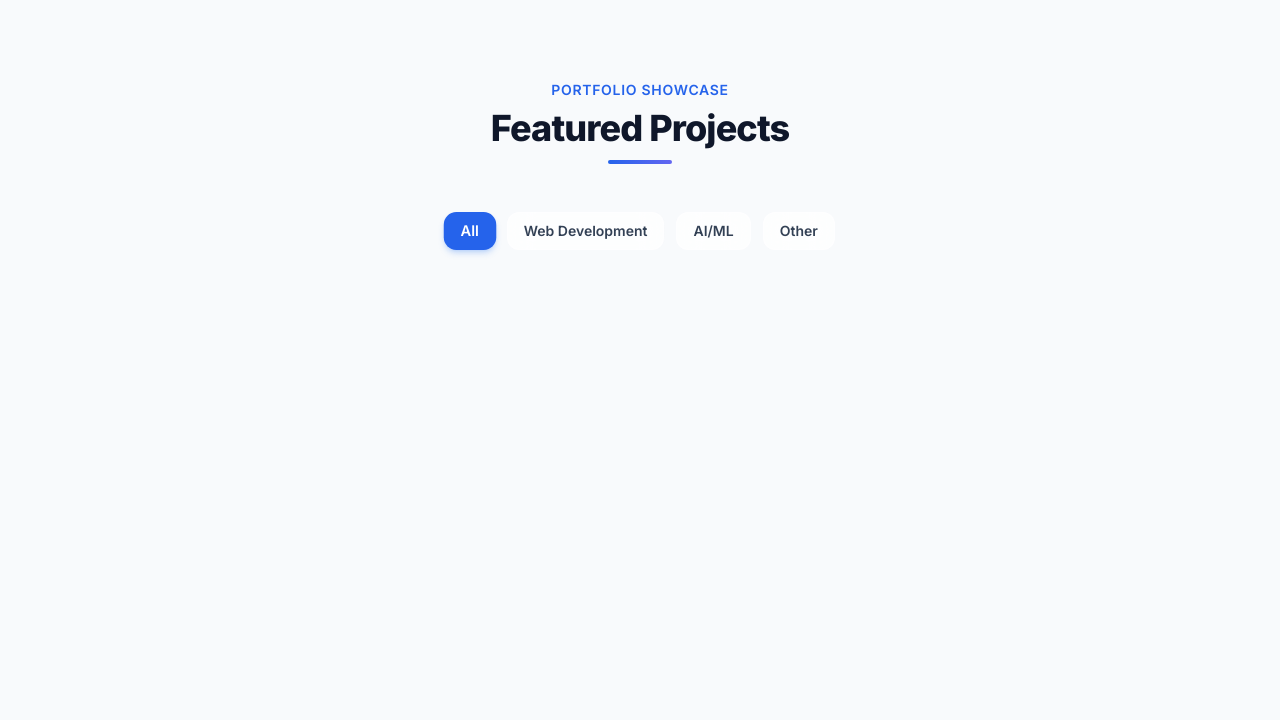
Test: Frontend Component Tests › filters project cards accurately on category tab click
This screenshot has width=1280, height=720.
Click on AI/ML filter
Click the button "AI/ML" at (714, 231), box [676,212,751,250]
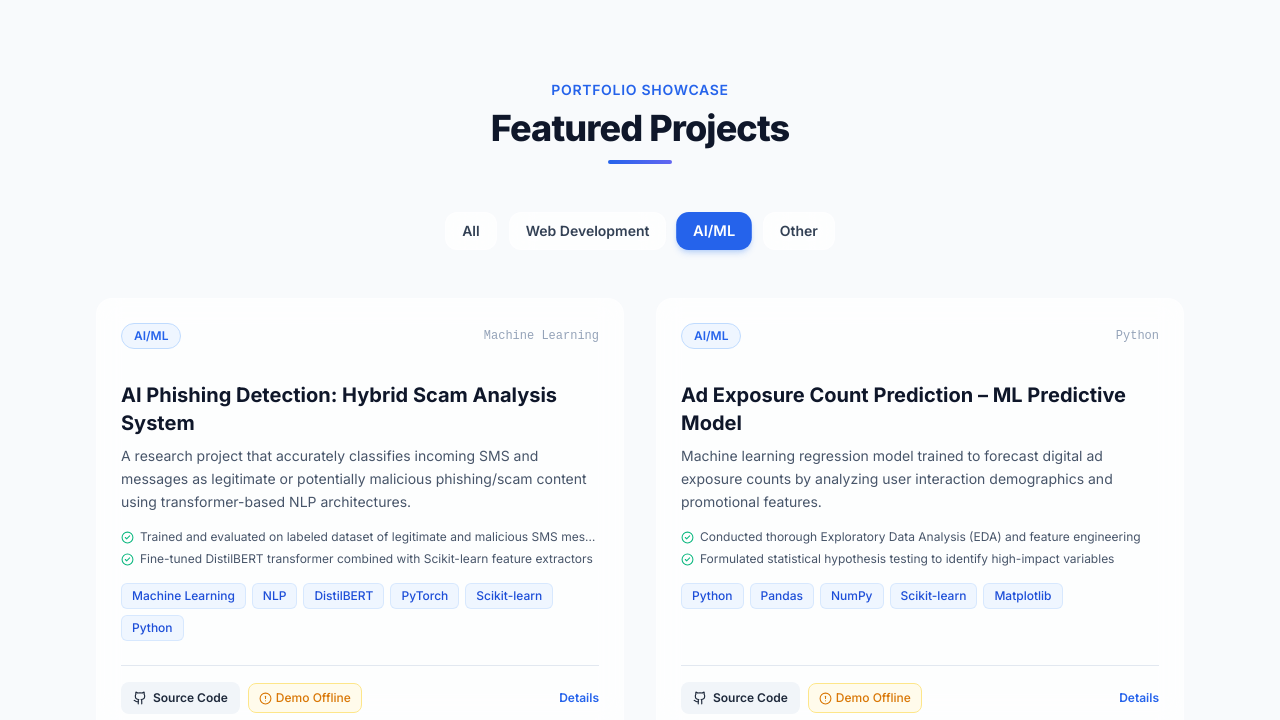
Expected: the heading "AI Phishing Detection: Hybrid Scam Analysis System" is shown, [121,381,599,437]
